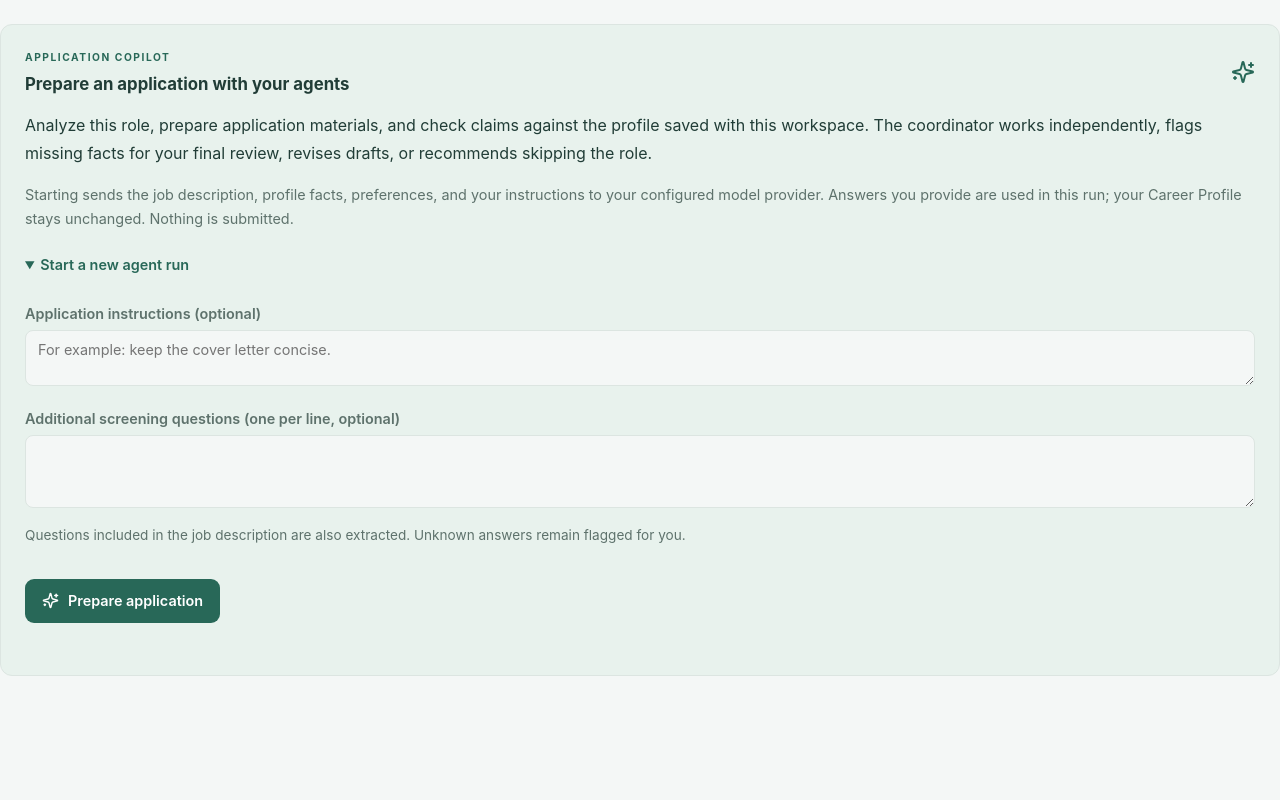
starts, asks for explicit answers, and displays the reviewed package
Click the button "Prepare application". click: point(123, 601)
box: [25,579,220,623]
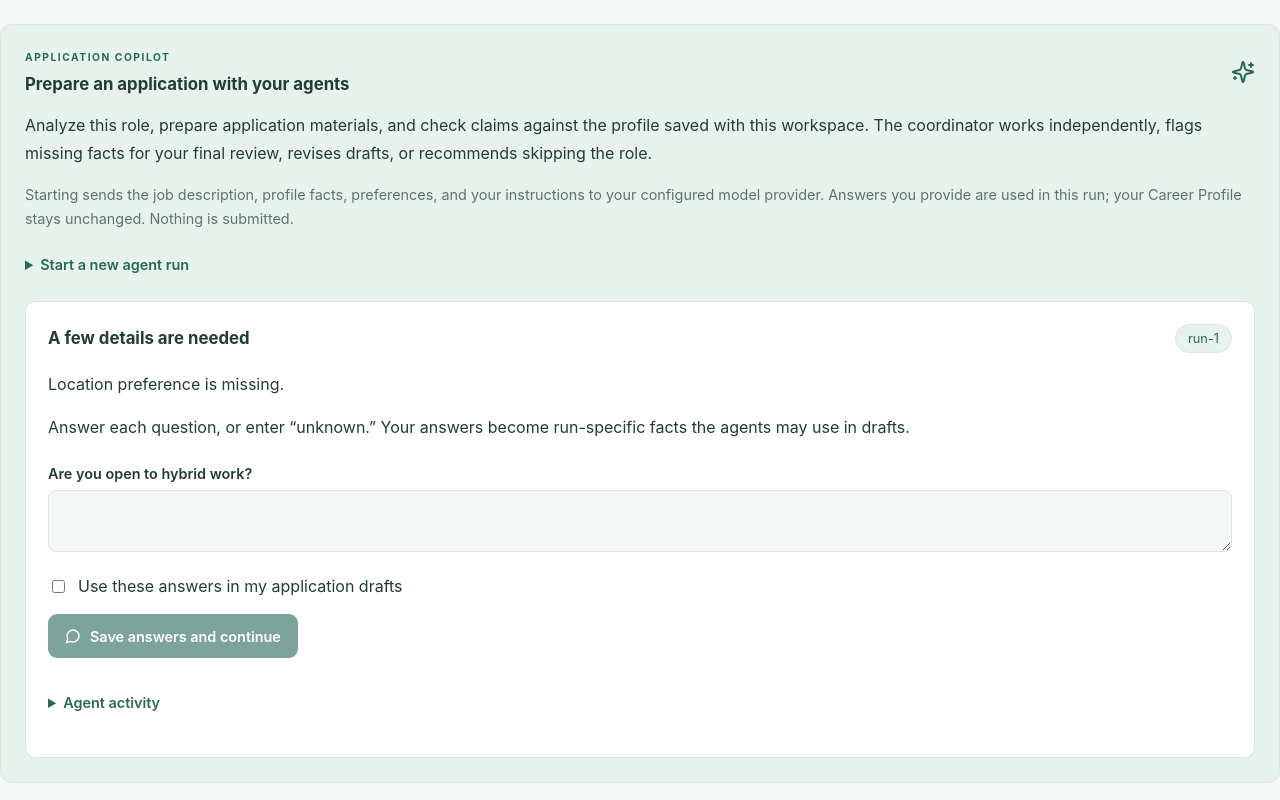
Expected: the heading "A few details are needed" is shown, [48,328,250,348]
Type "Yes" into the text box labelled "Are you open to hybrid work?". click: point(640, 521)
box: [48,490,1232,552]
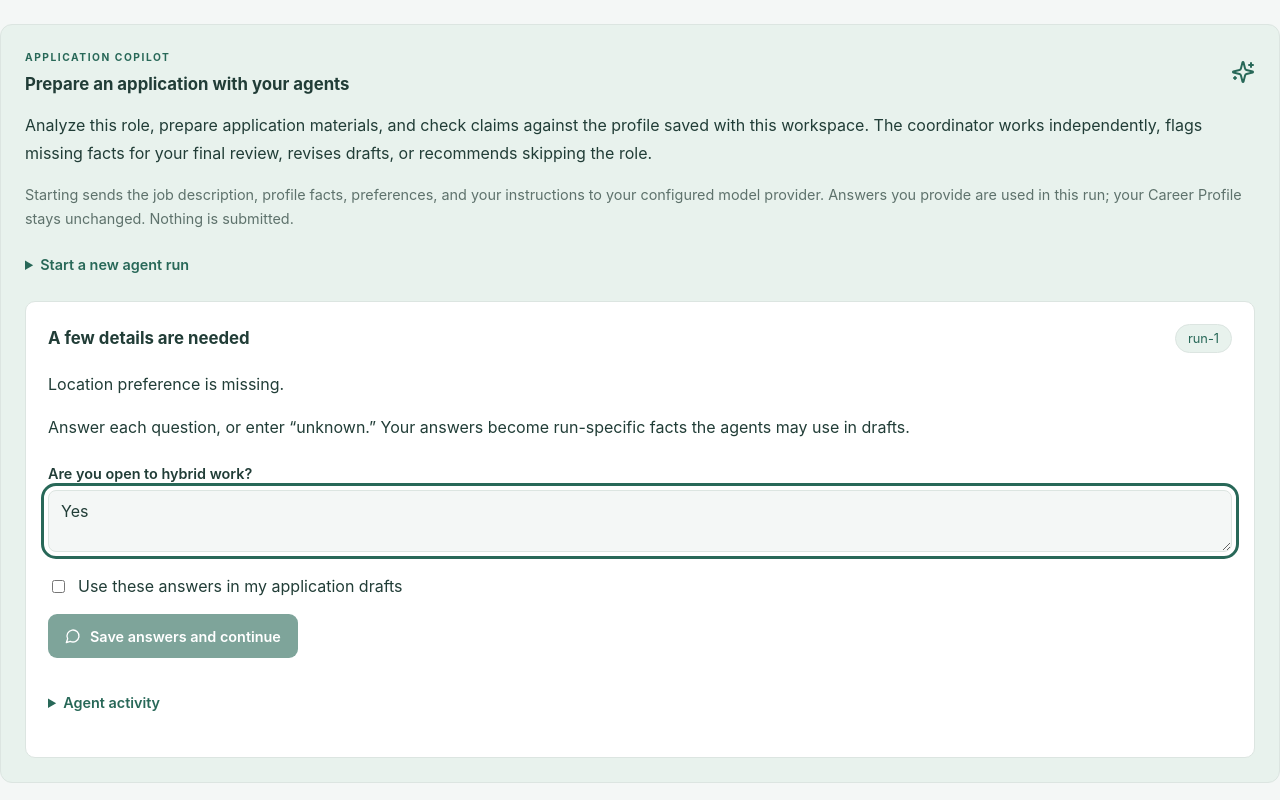
Expected: the button "Save answers and continue" is disabled, [48,614,298,658]
Click the checkbox labelled "Use these answers in my application drafts". click: point(58, 586)
box: [52,580,65,593]
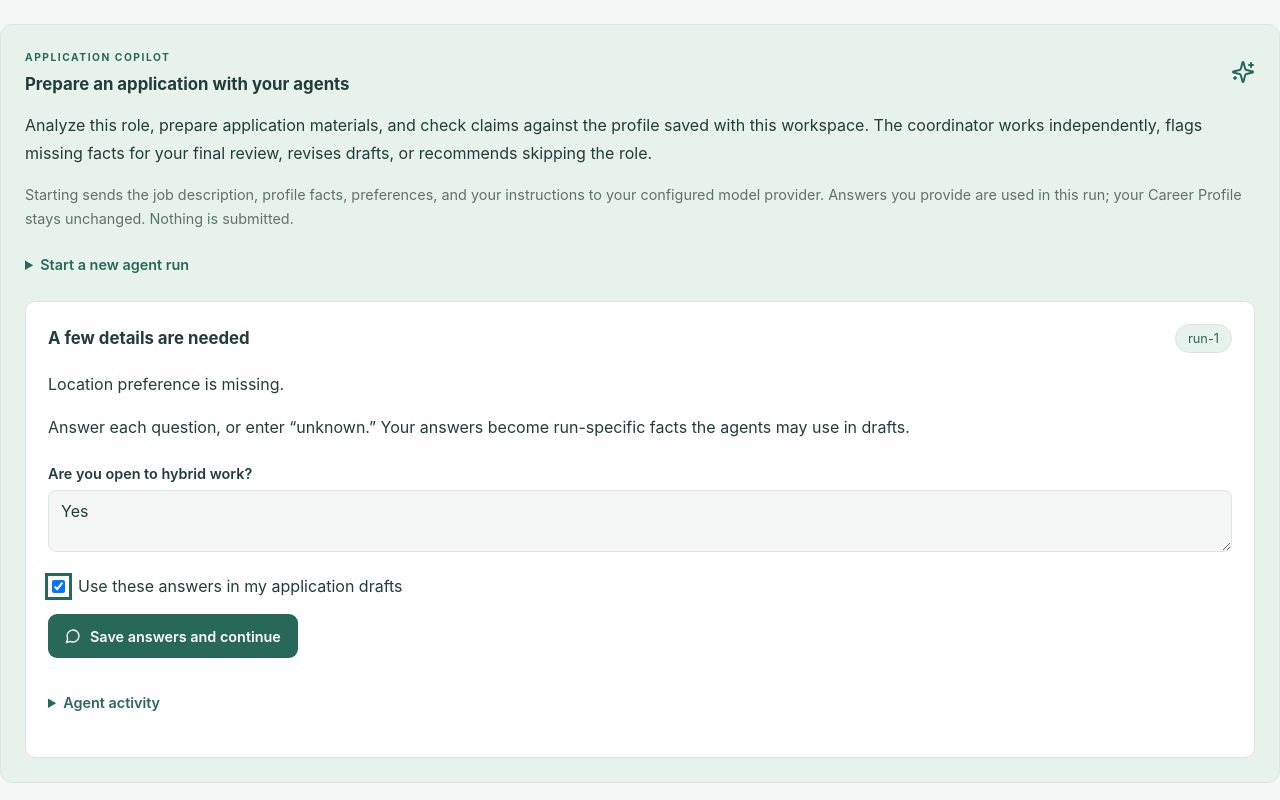
Click the button "Save answers and continue". click: point(173, 636)
box: [48,614,298,658]
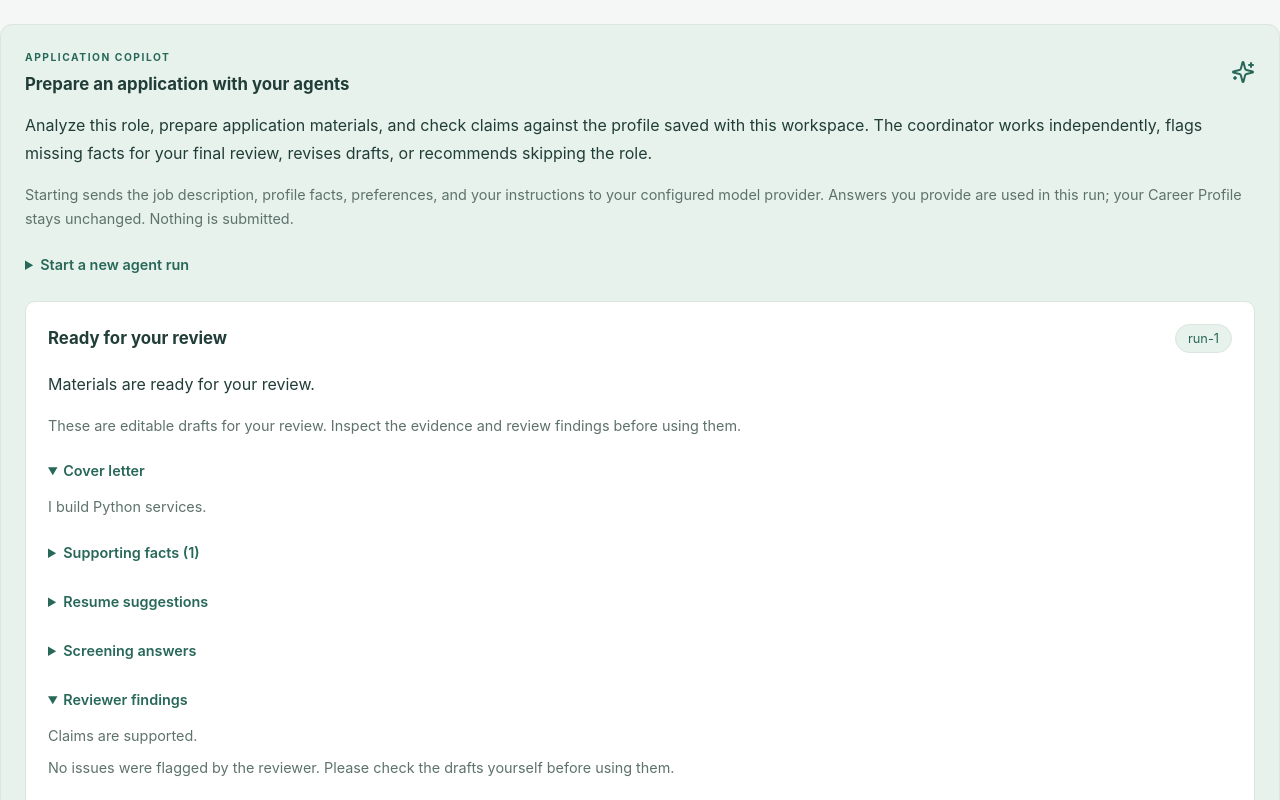
Expected: the heading "Ready for your review" is shown, [48,328,227,348]
Expected: the text "I build Python services." is shown, [48,498,206,515]
